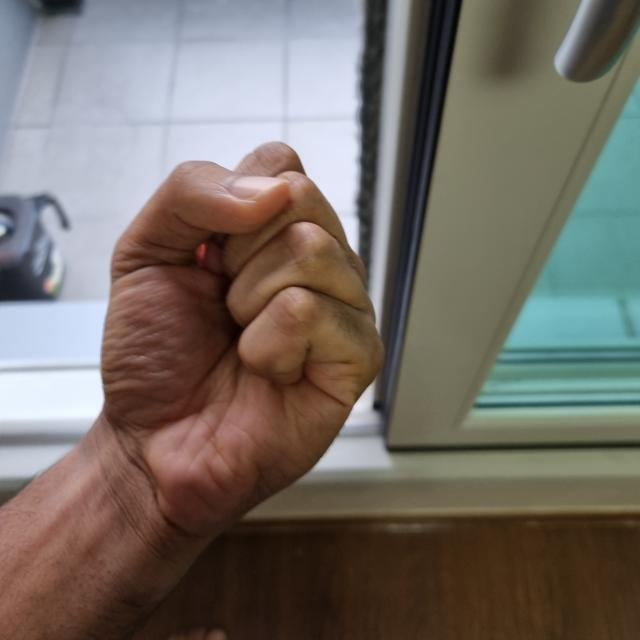Rock: (100, 149, 356, 515)
